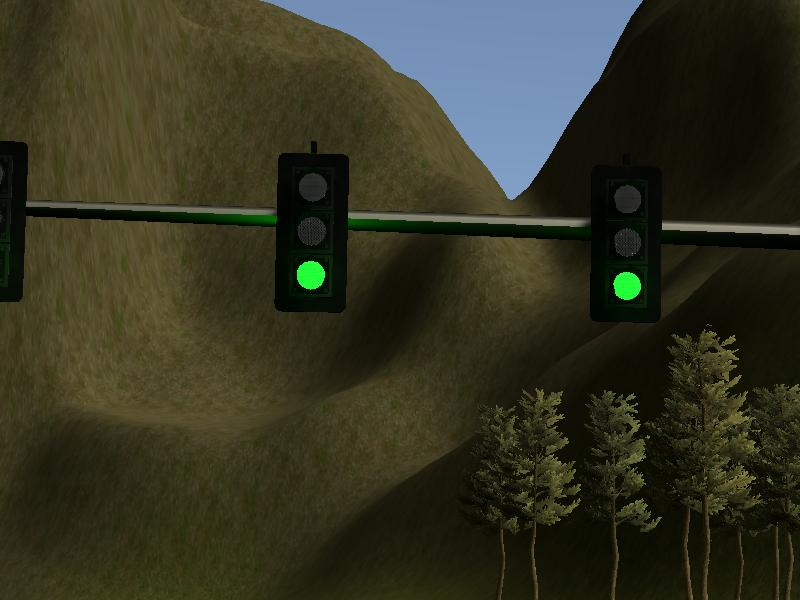green: (589, 163, 662, 323), (276, 152, 347, 311)
